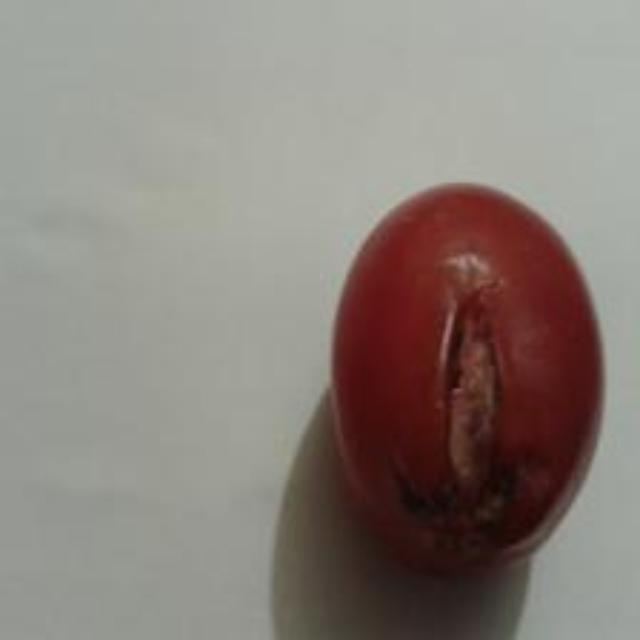defect: (321, 169, 612, 585)
